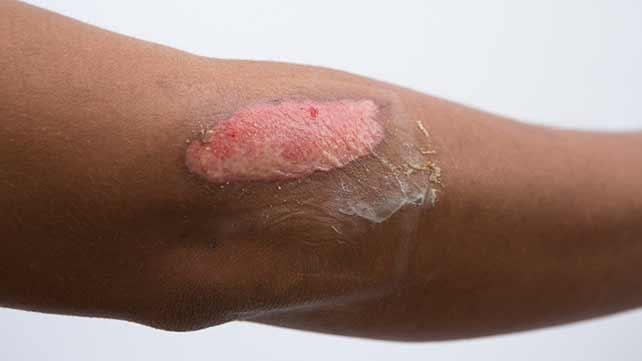burned-skin: (154, 81, 438, 227)
